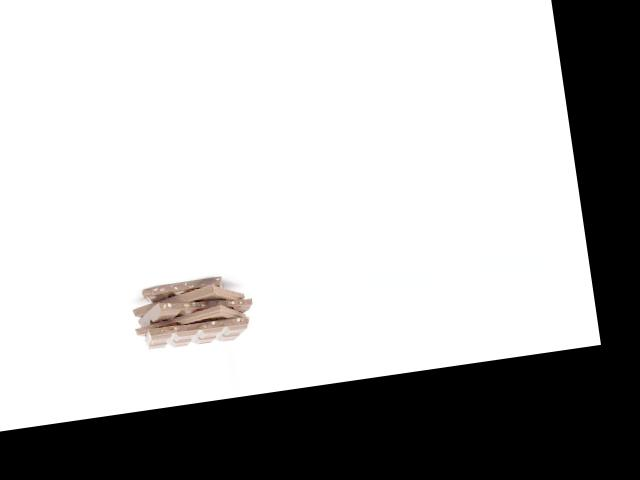chocolate: (131, 267, 246, 326)
